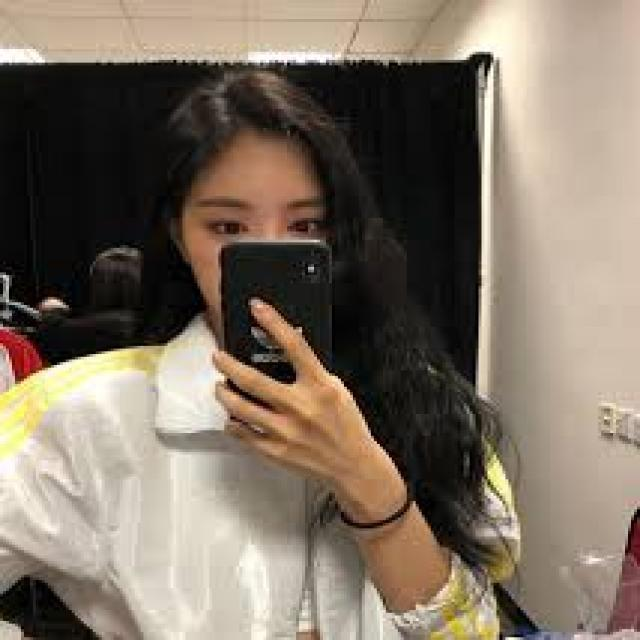Phone: (216, 235, 334, 418)
